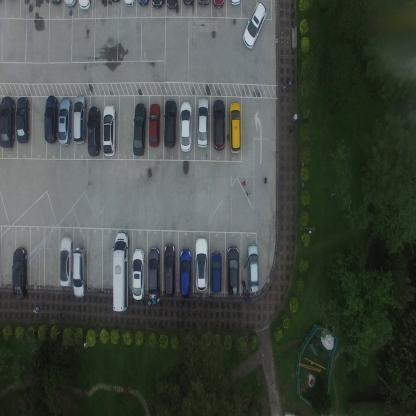car: (112, 231, 130, 313), (242, 0, 266, 51), (12, 246, 28, 302), (0, 96, 16, 150), (86, 105, 102, 157), (72, 245, 87, 299), (132, 103, 147, 156), (131, 247, 146, 300), (102, 102, 116, 158), (194, 237, 208, 292), (15, 96, 31, 144), (73, 93, 88, 144), (43, 94, 58, 144), (59, 236, 73, 289), (163, 97, 177, 149), (226, 244, 239, 300), (163, 242, 176, 298), (229, 101, 242, 156), (58, 96, 72, 147), (212, 99, 225, 152), (196, 96, 209, 149), (179, 100, 192, 153), (246, 242, 259, 294), (148, 247, 160, 300), (179, 248, 191, 300), (148, 102, 161, 148), (210, 250, 222, 294), (78, 0, 92, 11), (212, 0, 226, 11), (166, 0, 179, 11), (196, 0, 210, 8), (151, 0, 163, 9), (122, 0, 136, 7), (64, 0, 76, 7), (182, 0, 194, 7), (137, 0, 150, 6)
